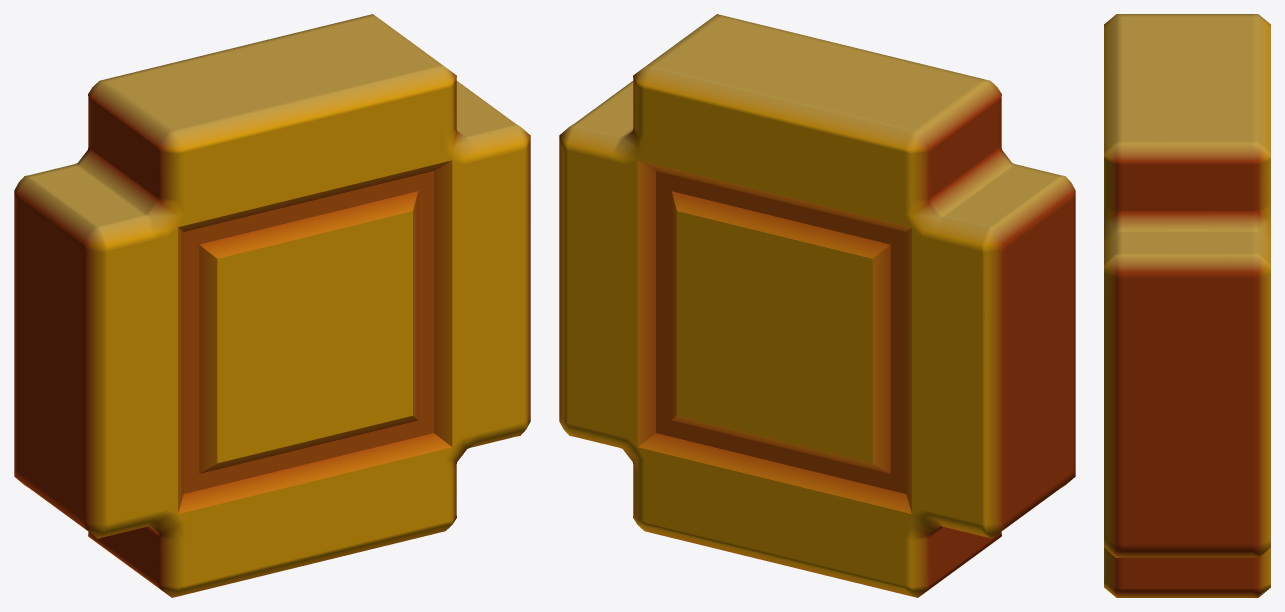
The model's file is Coin_DTB_Normal.fbx.
The picture shows the model from 3 angles, left to right: view 1: azimuth 30°, elevation 25°; view 2: azimuth 150°, elevation 25°; view 3: azimuth 270°, elevation 25°; orthographic projection. The views are drawn at different scales.
Parts seen in each view (by area): view 1: DTB_Coin; view 2: DTB_Coin; view 3: DTB_Coin.
Boxes of the visible parts, x1=… form: DTB_Coin: x1=14, y1=14, x2=530, y2=597; DTB_Coin: x1=559, y1=14, x2=1075, y2=597; DTB_Coin: x1=1104, y1=14, x2=1270, y2=597.
Size of the model in its own units: 60 by 60 by 20.
